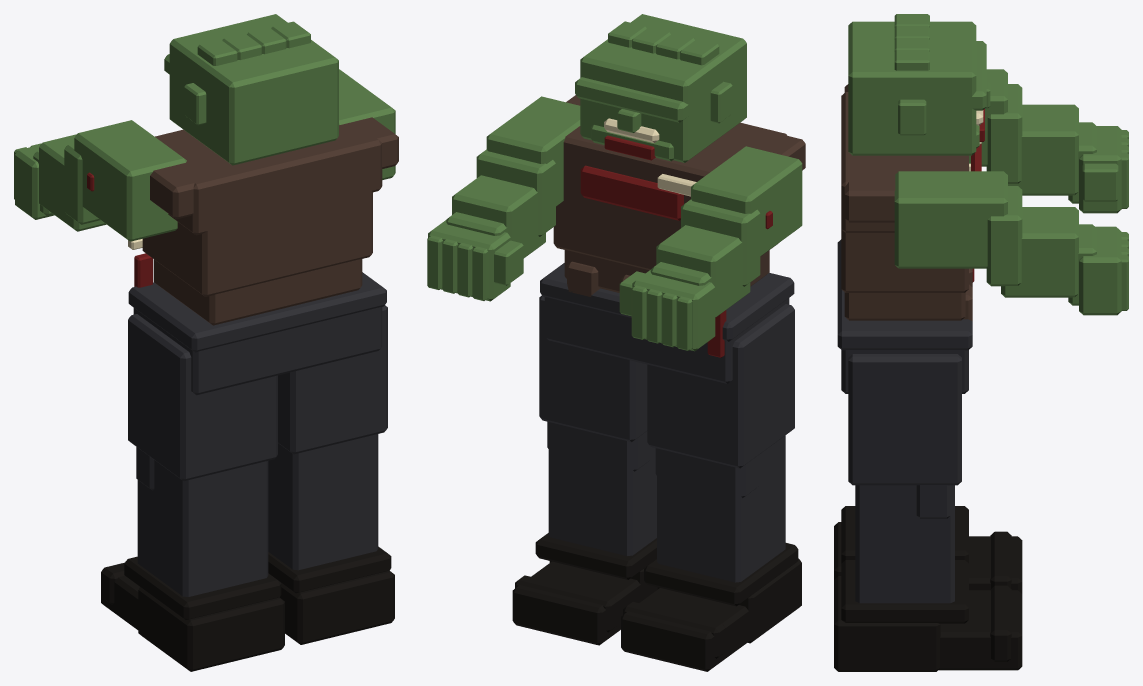
The model's file is zombie.obj.
3 renders of one model, left to right at view 1: azimuth 30°, elevation 25°; view 2: azimuth 150°, elevation 25°; view 3: azimuth 270°, elevation 25°, orthographic. The views are drawn at different scales.
Visible parts, largest first — view 1: Zombie; view 2: Zombie; view 3: Zombie.
Part boxes in pixels (x1,y1,x2,y2): Zombie: (14,14,398,671); Zombie: (427,14,805,671); Zombie: (834,14,1128,671).
Bounding box in the file's own units: 0.9 × 1.82 × 0.83.
